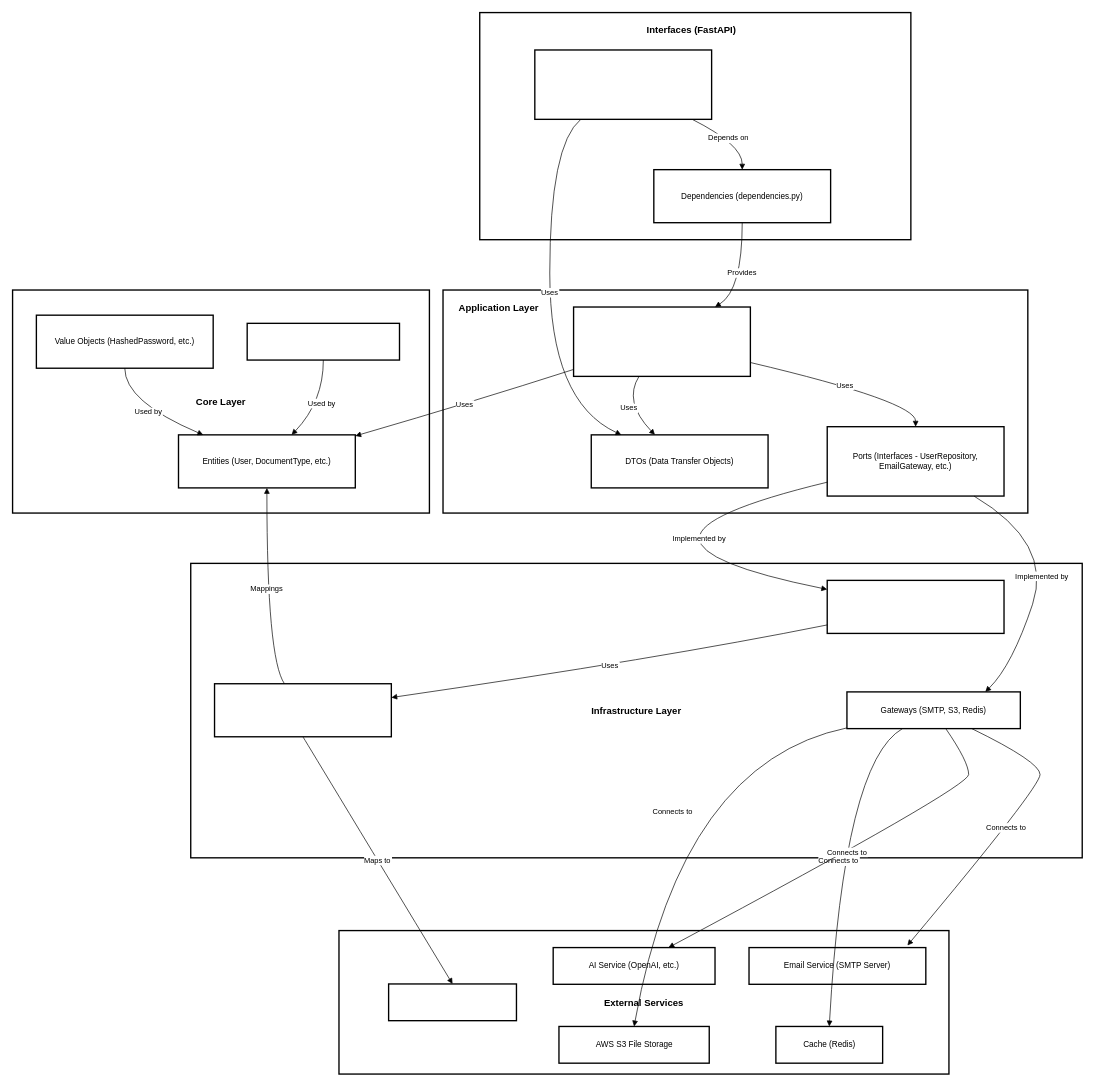
Image size: 1094x1086. Some labels were removed from this diagram. Each missing label, with the centre of its shape:
API Routes (user_routes.py, auth_routes.py, etc.): [623,84]
Database (MySQL): [452,1002]
Enums (UserRole, etc.): [323,341]
Models (SQLAlchemy - UserModel, etc.): [303,710]
Repositories (MySqlUserRepository, etc.): [915,606]
Use Cases (CreateUserUseCase, LoginUseCase, etc.): [662,341]
